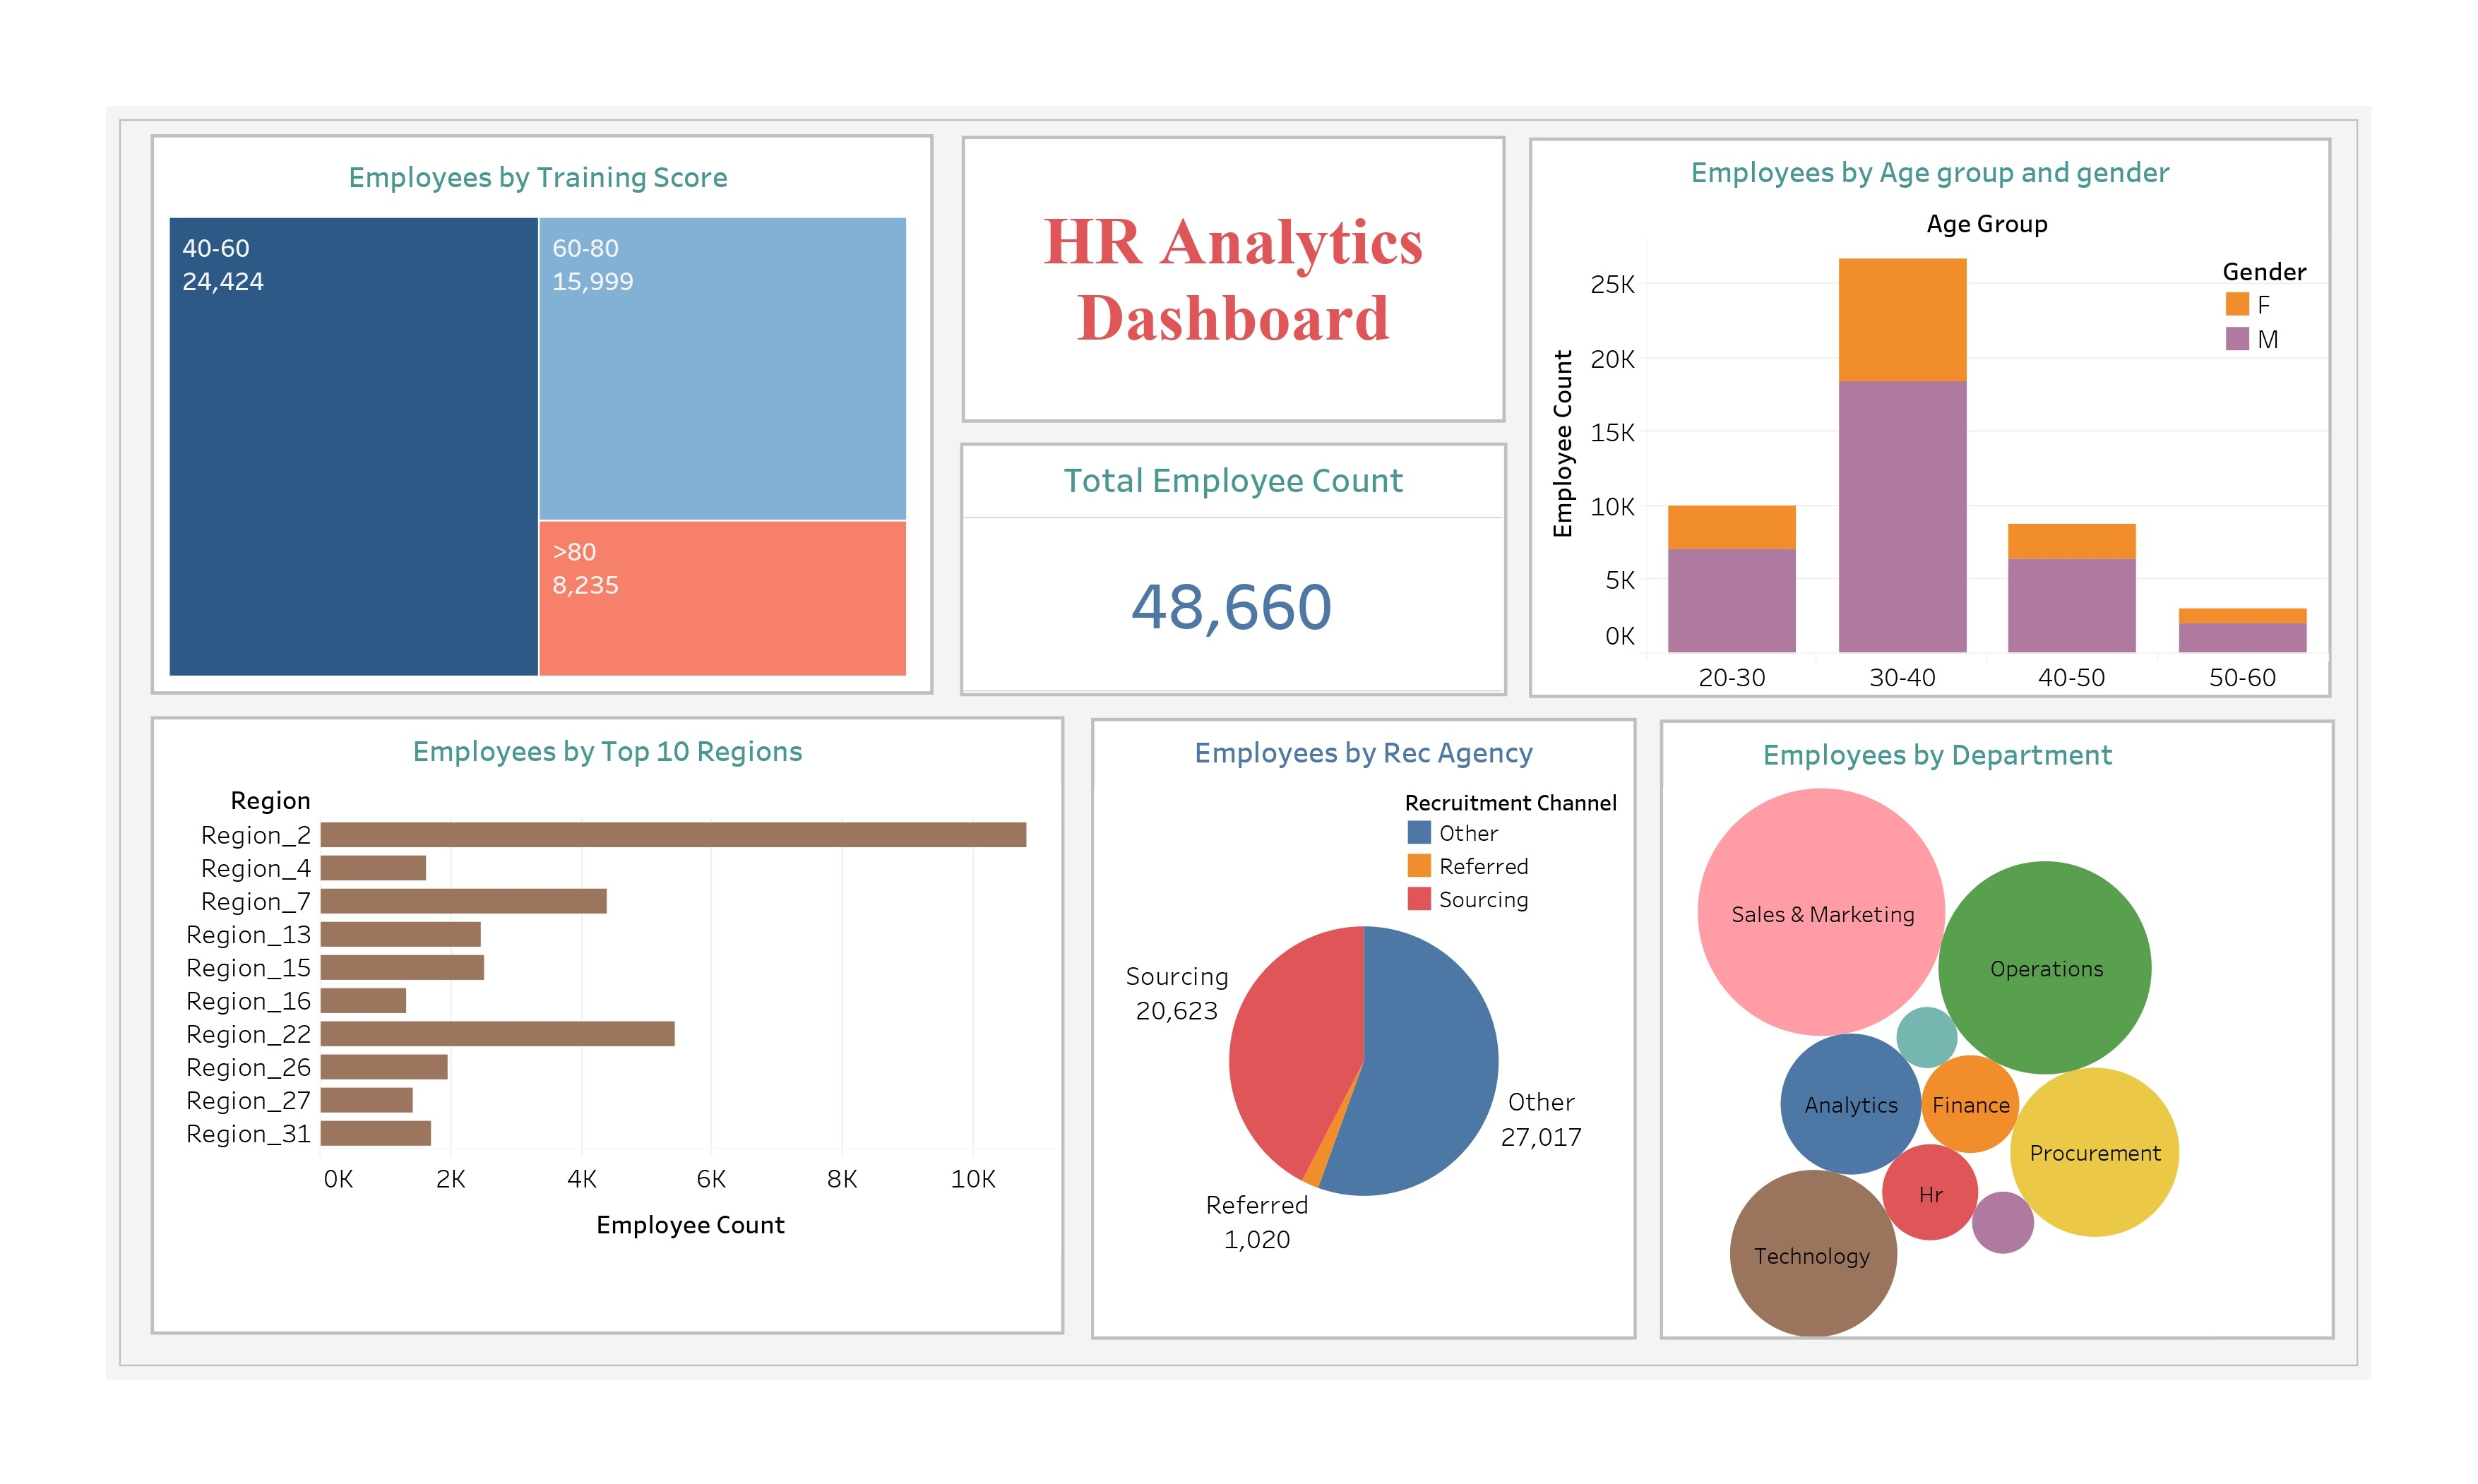

What the dashboard file says about the page in this screenshot:
{"tool":"tableau","page":{"name":"HR Analytics Dashboard","canvas":[1366,768],"ordinal":0},"visuals":[{"type":"worksheet","title":"Employees by Training Score","mark":"Automatic","box":[27,17,472,338]},{"type":"text","box":[516,18,328,173]},{"type":"worksheet","title":"Employees by Age group and gender","mark":"Automatic","rows":["Aq"],"cols":["Age Group"],"box":[858,19,484,338]},{"type":"legend","title":"Employees by Age group and gender","param":"[federated.11w9nm91ywwrd61cufin113ndpz0].[none:Gender:nk]","box":[1275,87,77,64]},{"type":"worksheet","title":"Total Employee Count","mark":"Automatic","box":[515,203,330,153]},{"type":"worksheet","title":"Employees by Top 10 Regions ","mark":"Automatic","rows":["Region"],"cols":["Aq"],"box":[27,368,551,373]},{"type":"worksheet","title":"Employees by Rec Agency","mark":"Pie","box":[594,369,329,375]},{"type":"worksheet","title":"Employees by Department","mark":"Circle","box":[937,370,407,374]},{"type":"legend","title":"Employees by Rec Agency","param":"[federated.11w9nm91ywwrd61cufin113ndpz0].[none:Recruitment_Channel:nk]","box":[782,409,140,85]}]}

Visuals, with their boxes on the page's 1366x768 design canvas (x1, y1, x2, y2). These are canvas units, not pixel positions in the 2478x1484 screenshot, which may show the page scaled, cropped or inside an application window:
"Employees by Training Score" worksheet: bbox(27, 17, 499, 355)
text: bbox(516, 18, 844, 191)
"Employees by Age group and gender" worksheet: bbox(858, 19, 1342, 357)
"Employees by Age group and gender" legend: bbox(1275, 87, 1352, 151)
"Total Employee Count" worksheet: bbox(515, 203, 845, 356)
"Employees by Top 10 Regions " worksheet: bbox(27, 368, 578, 741)
"Employees by Rec Agency" worksheet (Pie marks): bbox(594, 369, 923, 744)
"Employees by Department" worksheet (Circle marks): bbox(937, 370, 1344, 744)
"Employees by Rec Agency" legend: bbox(782, 409, 922, 494)
